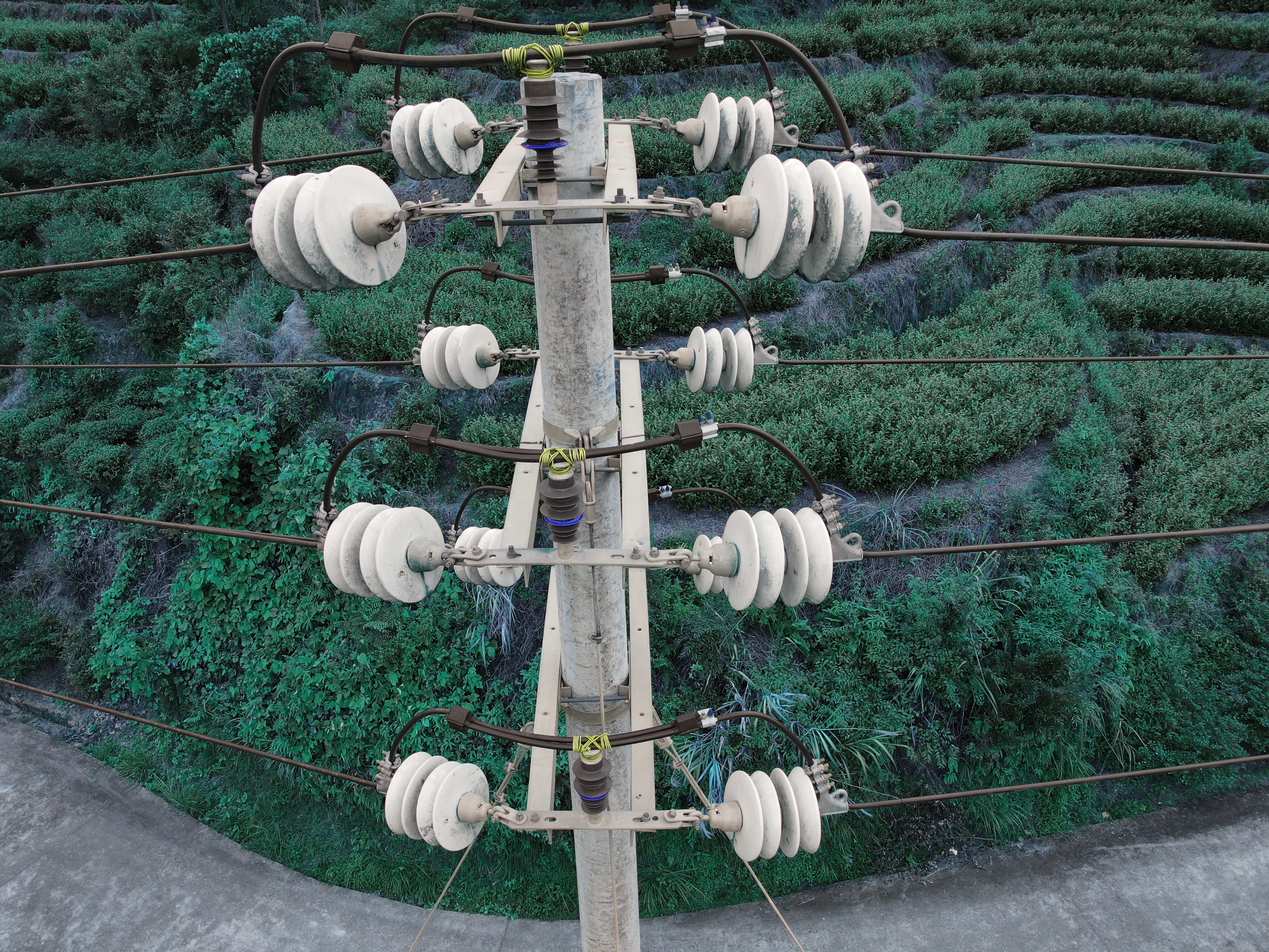severe_soiling_no_discharge_whole: (246, 151, 418, 287), (709, 149, 876, 284), (700, 506, 839, 614), (324, 497, 449, 605), (382, 751, 492, 850), (672, 90, 781, 176), (389, 90, 489, 181), (666, 325, 759, 400)
